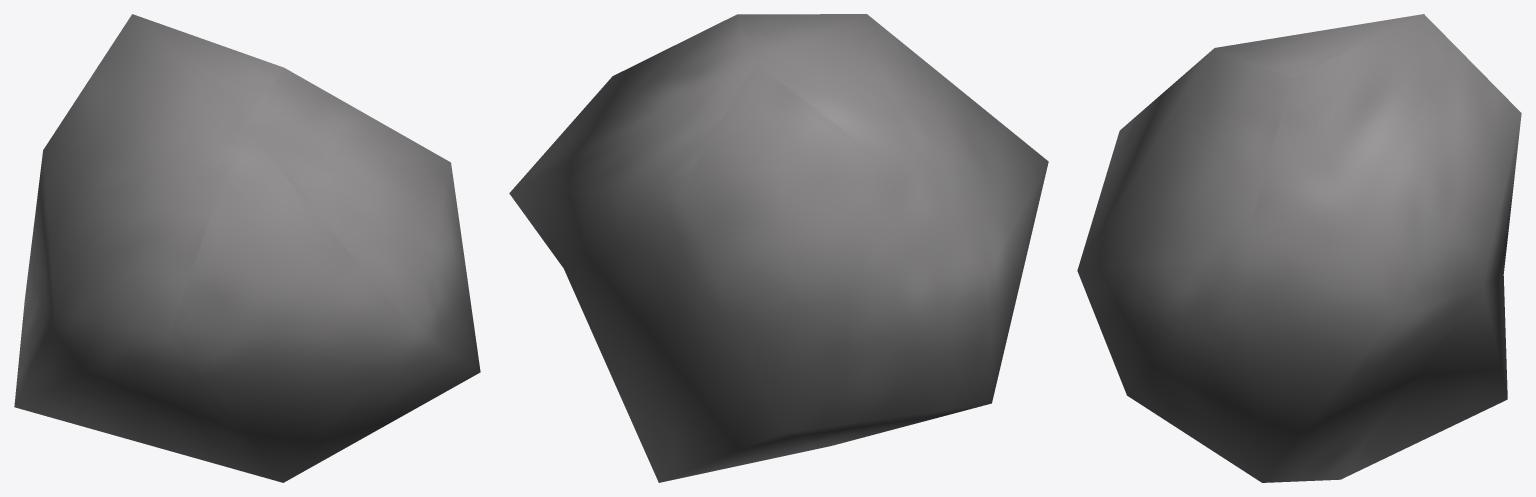
The model's file is RockSmall.fbx.
3 renders of one model, left to right at view 1: azimuth 30°, elevation 25°; view 2: azimuth 150°, elevation 25°; view 3: azimuth 270°, elevation 25°, orthographic. The views are drawn at different scales.
Parts seen in each view (by area): view 1: RockSmall; view 2: RockSmall; view 3: RockSmall.
Part boxes in pixels (bbox=[...]): RockSmall: bbox=[14, 14, 480, 482]; RockSmall: bbox=[509, 14, 1048, 482]; RockSmall: bbox=[1077, 14, 1521, 482].
Bounding box in the file's own units: 0.9911 × 0.9633 × 0.9423.
Materials: 1 (1 with a texture image).
